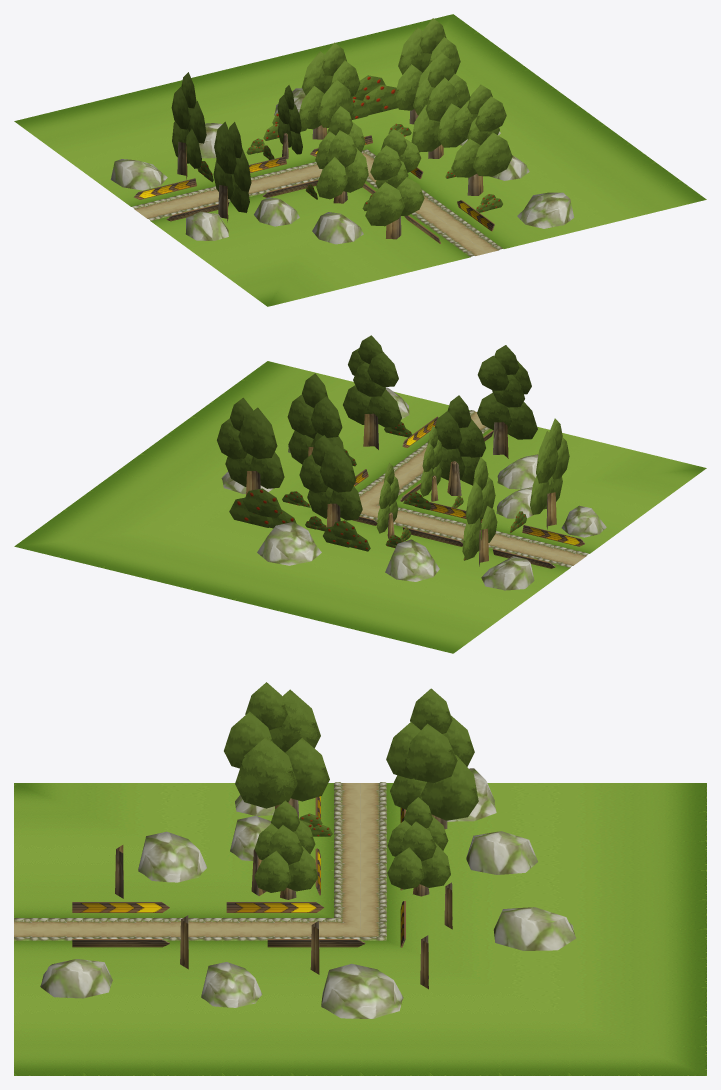
Rendered from ForestRoad01_Left.FBX.
The picture shows the model from 3 angles, top to bottom: view 1: azimuth 30°, elevation 25°; view 2: azimuth 150°, elevation 25°; view 3: azimuth 270°, elevation 25°; orthographic projection. The views are drawn at different scales.
Visible parts, largest first — view 1: Road, Tree (×9), Stone (×6), Bush, Fence, Stone001; view 2: Road, Tree (×10), Stone (×6), Bush (×2), Fence; view 3: Road, Tree (×4), Stone (×7), Fence (×4), Stone001.
Boxes of the visible parts, box(x1,y1,x2,y2) form: Road: box(14, 14, 706, 306); Tree (×9): box(171, 18, 512, 239); Stone (×6): box(110, 123, 574, 244); Bush: box(351, 75, 397, 119); Fence: box(134, 178, 196, 199); Stone001: box(489, 155, 529, 180); Road: box(14, 361, 706, 653); Tree (×10): box(217, 335, 569, 566); Stone (×6): box(257, 454, 606, 590); Bush (×2): box(229, 488, 370, 551); Fence: box(522, 525, 584, 546); Road: box(14, 782, 706, 1075); Tree (×4): box(224, 682, 478, 899); Stone (×7): box(40, 768, 576, 1018); Fence (×4): box(72, 902, 365, 947); Stone001: box(201, 962, 262, 1007).
Bounding box in the file's own units: 10000 × 2536 × 10000.
